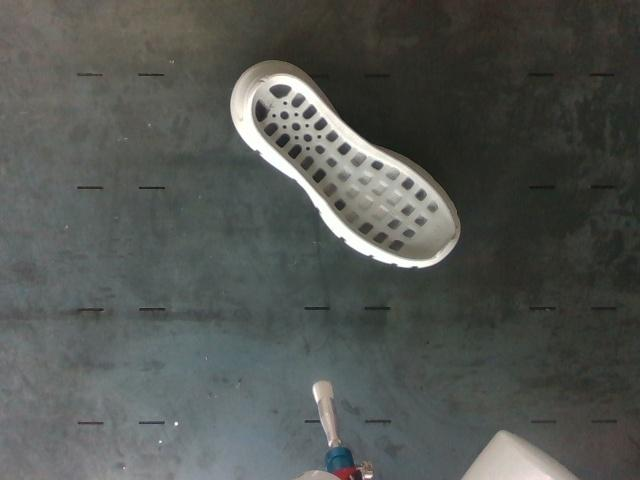shoes: (252, 75, 455, 260)
